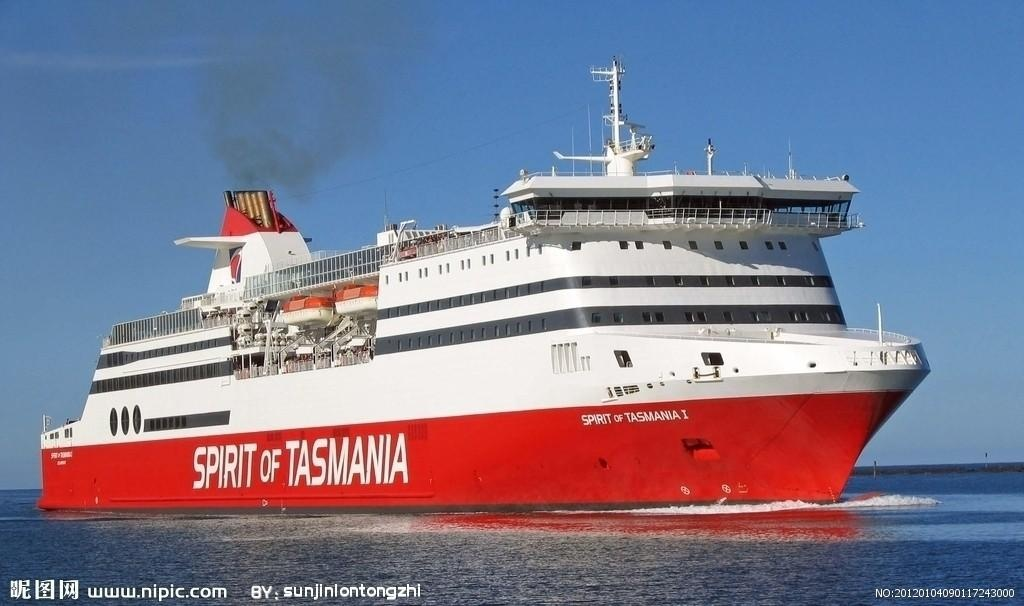youlun: (31, 124, 930, 511)
